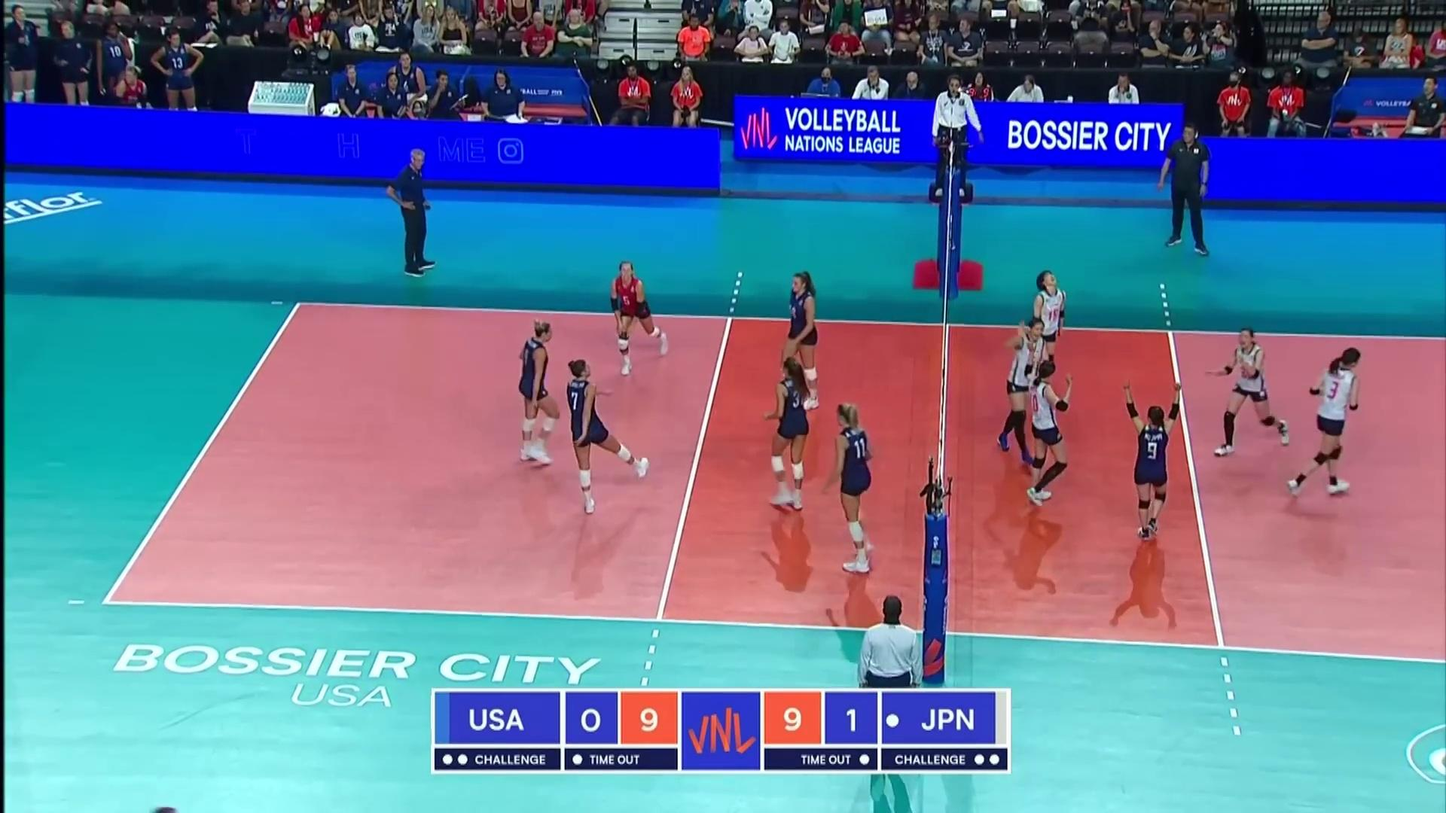player: (565, 362, 649, 510), (1285, 347, 1361, 495), (1119, 384, 1180, 540), (1216, 329, 1290, 452), (829, 401, 877, 577), (997, 315, 1052, 465), (1026, 353, 1074, 510), (512, 322, 561, 474), (776, 269, 820, 418), (767, 362, 810, 514), (613, 260, 669, 375), (1027, 269, 1067, 405)
refree: (857, 597, 918, 778), (932, 78, 983, 193)
